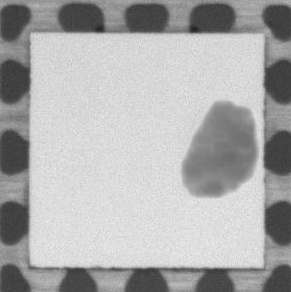DIE_INK: (180, 100, 258, 194)
